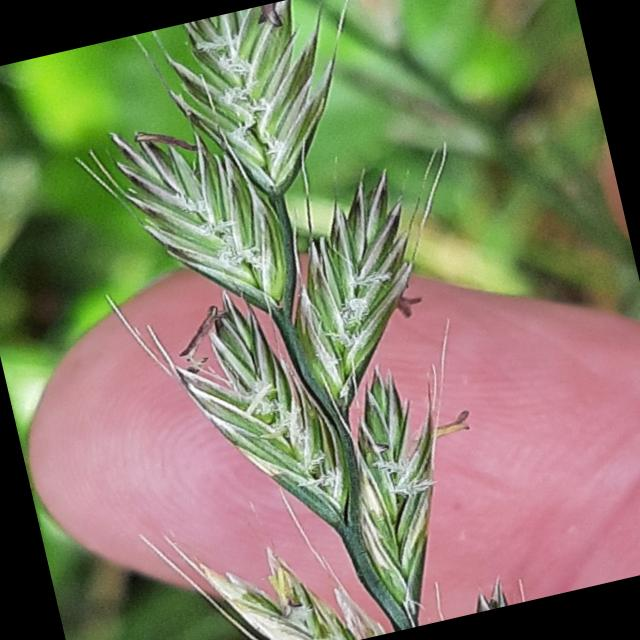Lolium: (38, 0, 553, 640)
